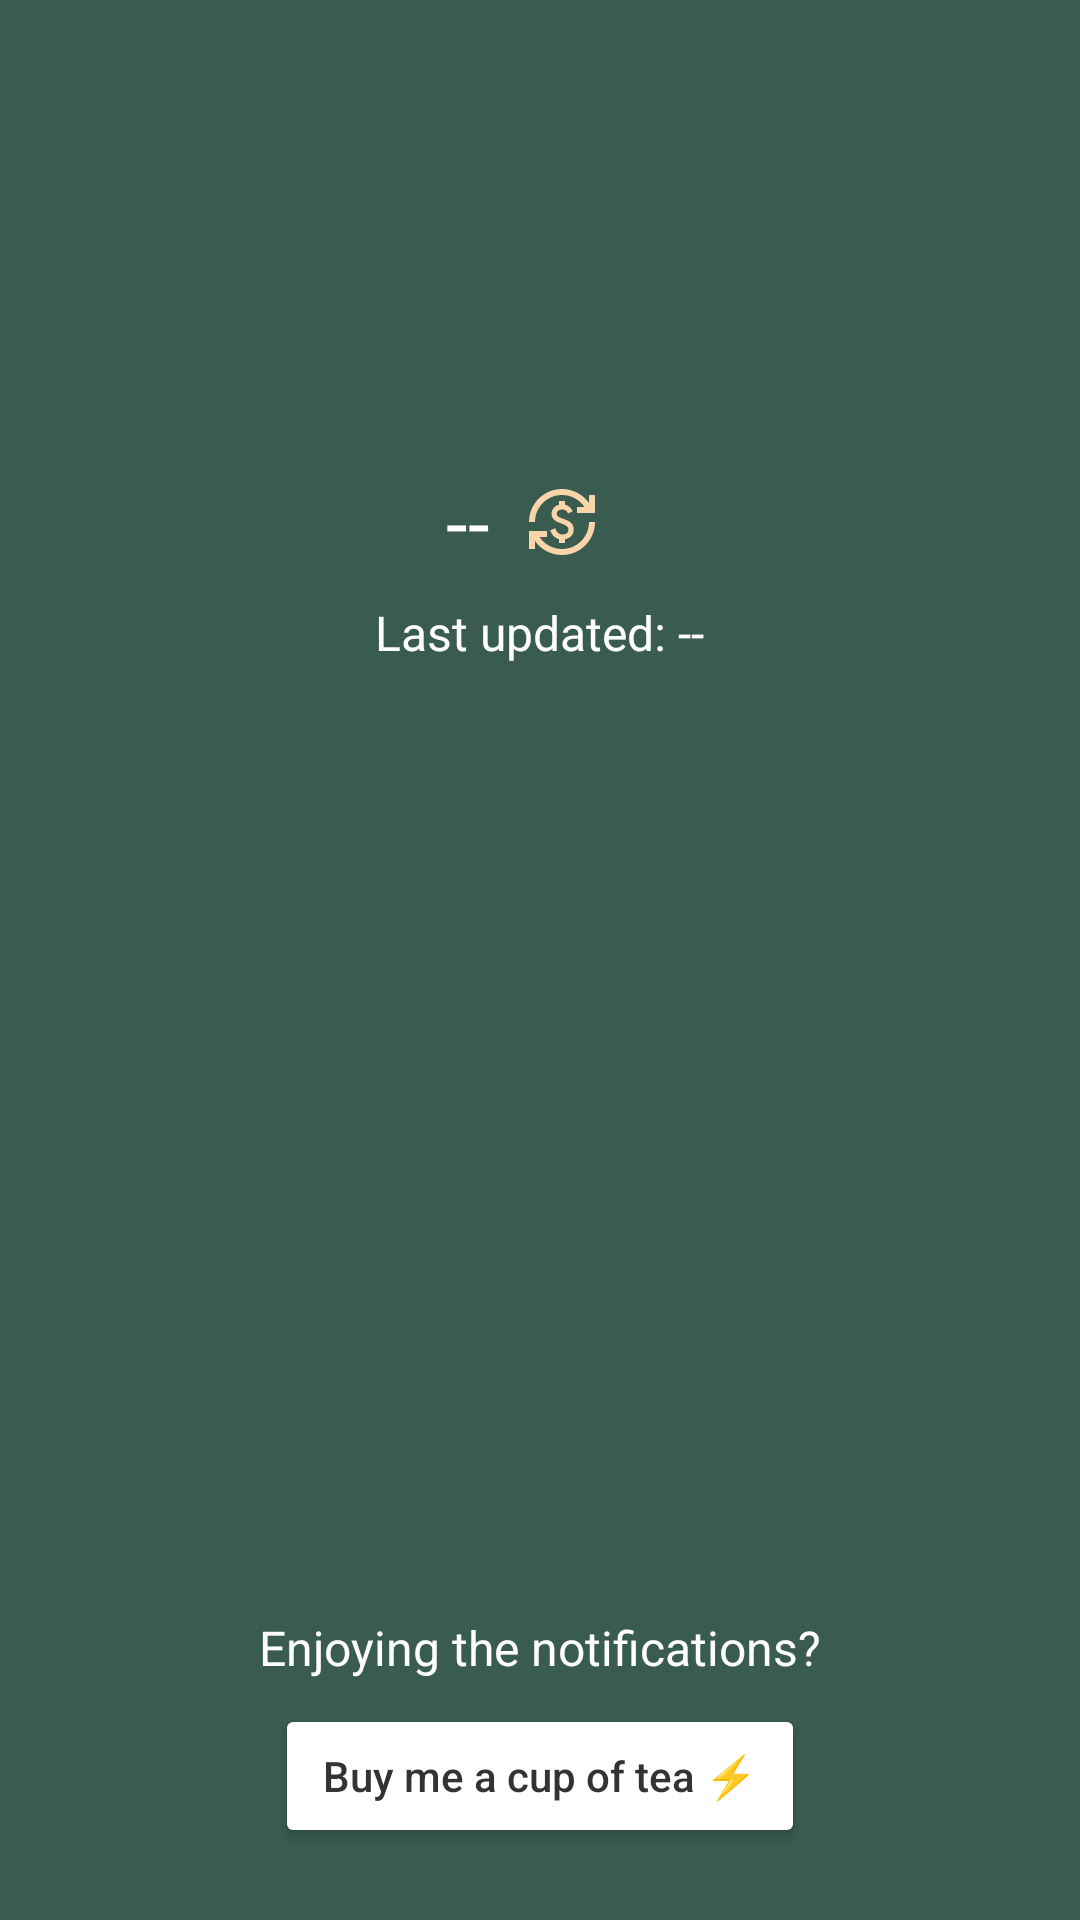

Named icons in this screenshot (1080w x 1920h) and their centers, (x,y):
Sync Icon: (562,522)
